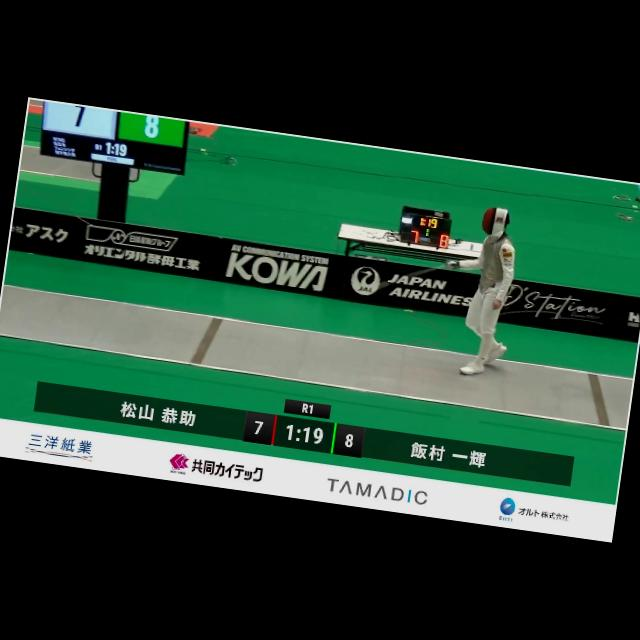blade: (368, 248, 460, 306)
